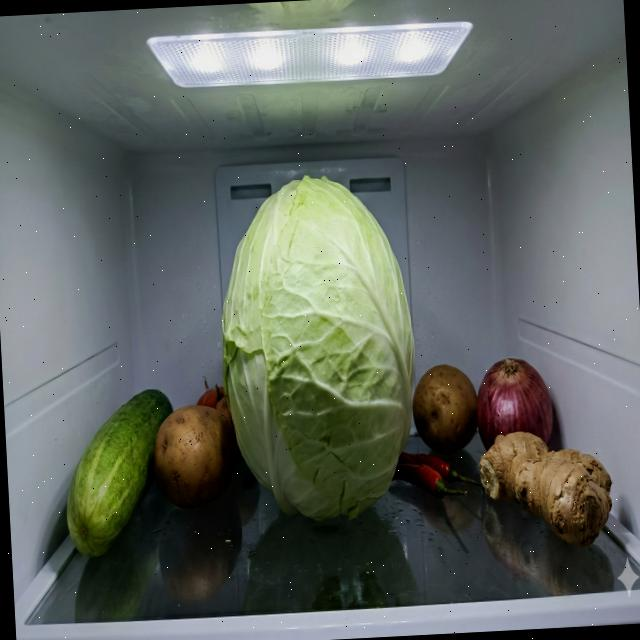cabbage: (211, 168, 424, 532)
chili: (390, 446, 486, 502)
cucumber: (60, 386, 182, 562)
ginger: (477, 427, 615, 552)
onion: (476, 356, 554, 453)
potato: (150, 402, 241, 511), (410, 362, 481, 456)
